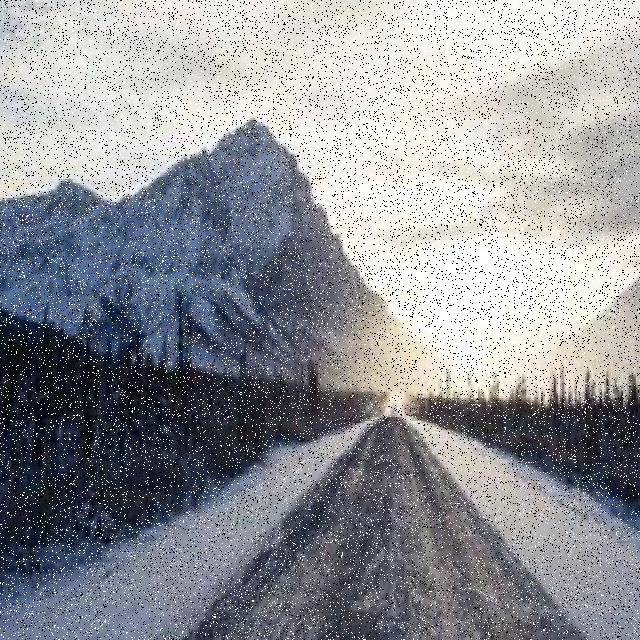ice-road: (189, 417, 587, 640)
